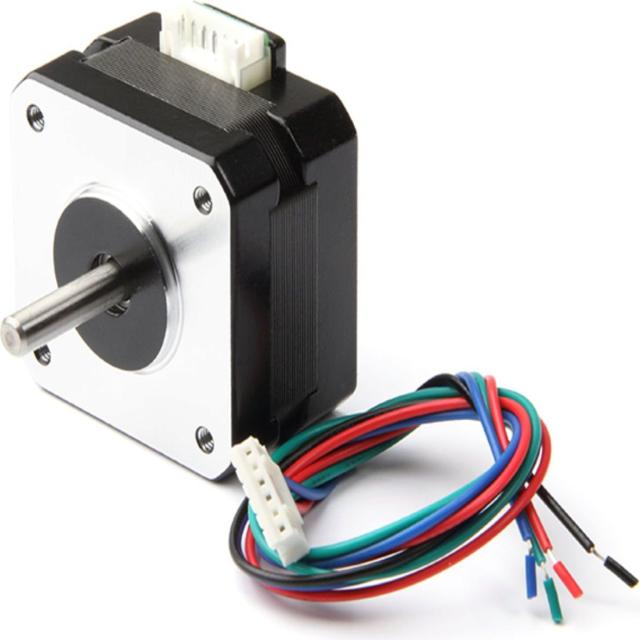motor: (0, 2, 359, 486)
